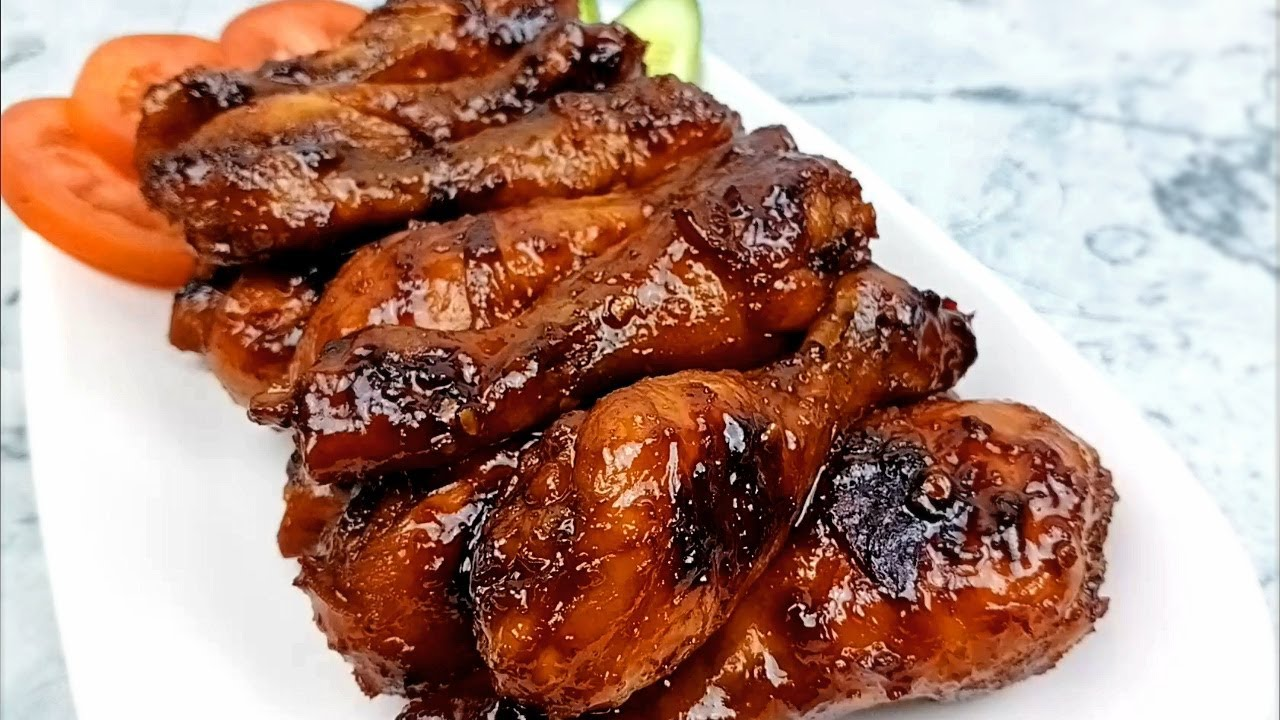Ayam: (495, 223, 956, 651), (747, 356, 1136, 719), (358, 106, 764, 413)
